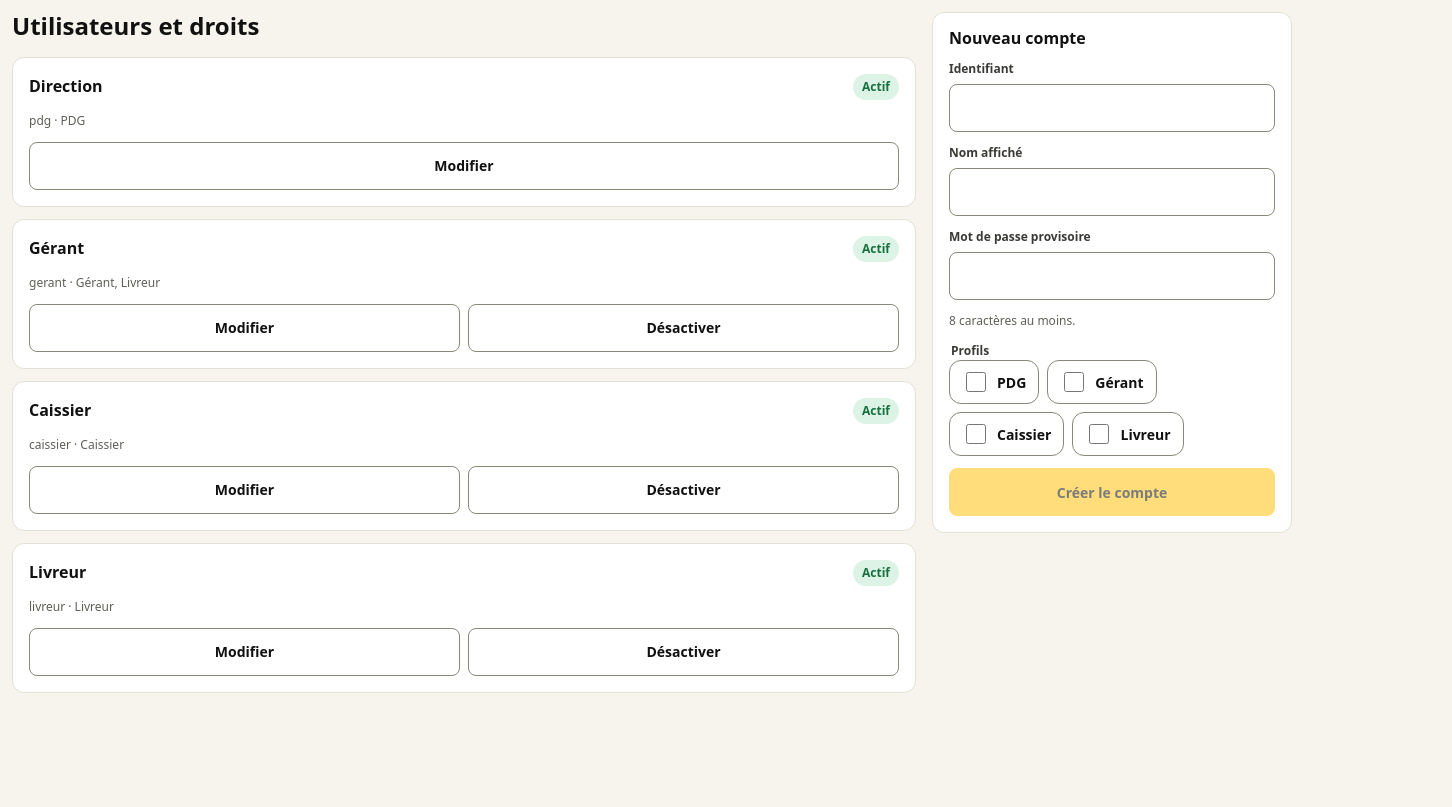
CoCoConfig › désactive un compte, change ses profils et montre un refus du serveur
Step 1. Click the 2nd button "Désactiver" → (684,490), box [468,466,899,514]
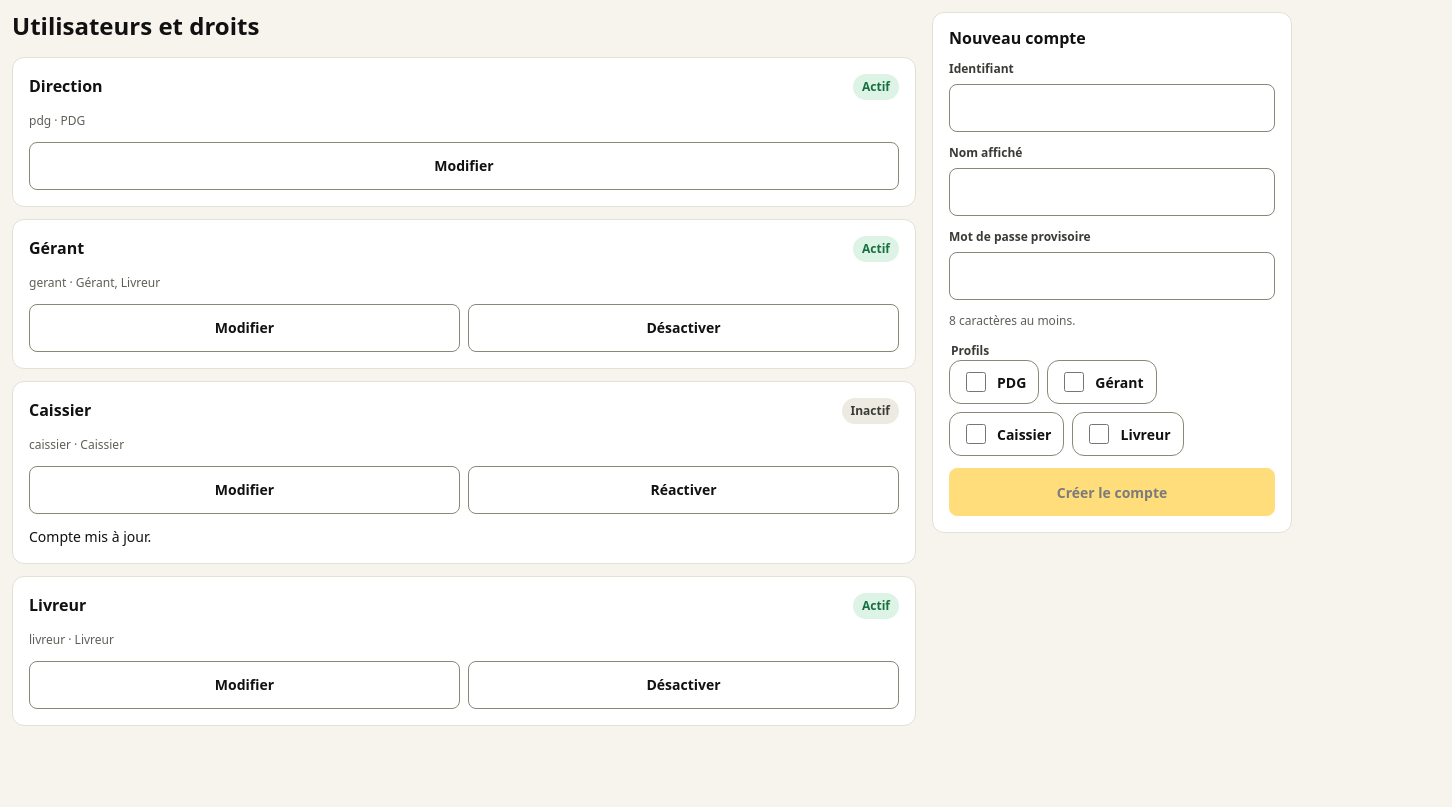
Expected: the text "Compte mis à jour." is shown, [29,527,151,546]
Expected: the text "Inactif" is shown, [842,398,899,424]
Step 2. Click the button "Modifier" below "caissier · Caissier" → (244,490), box [29,466,460,514]
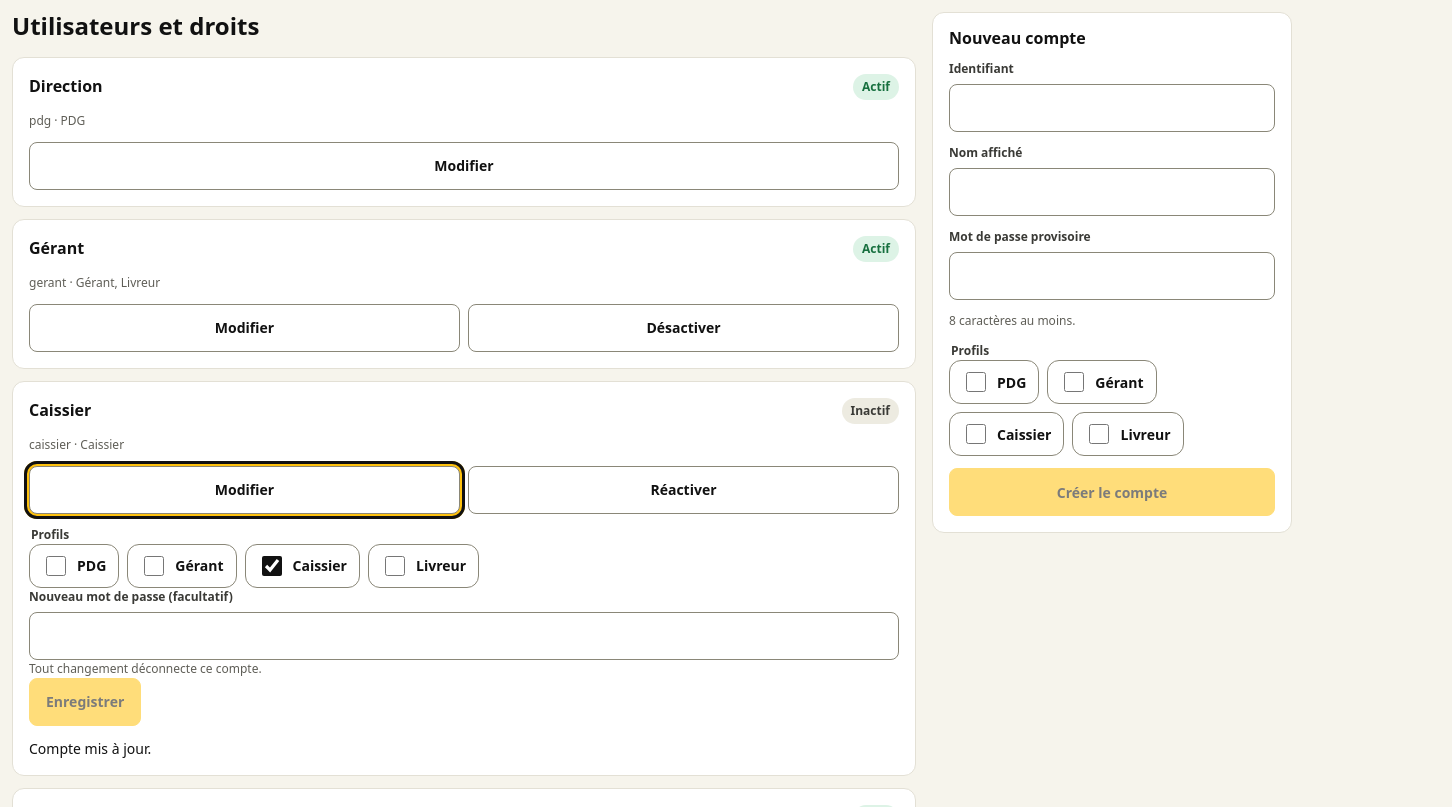
Step 3. Type "court" into the password field labelled "Nouveau mot de passe (facultatif)" → (464,636), box [29,612,899,660]
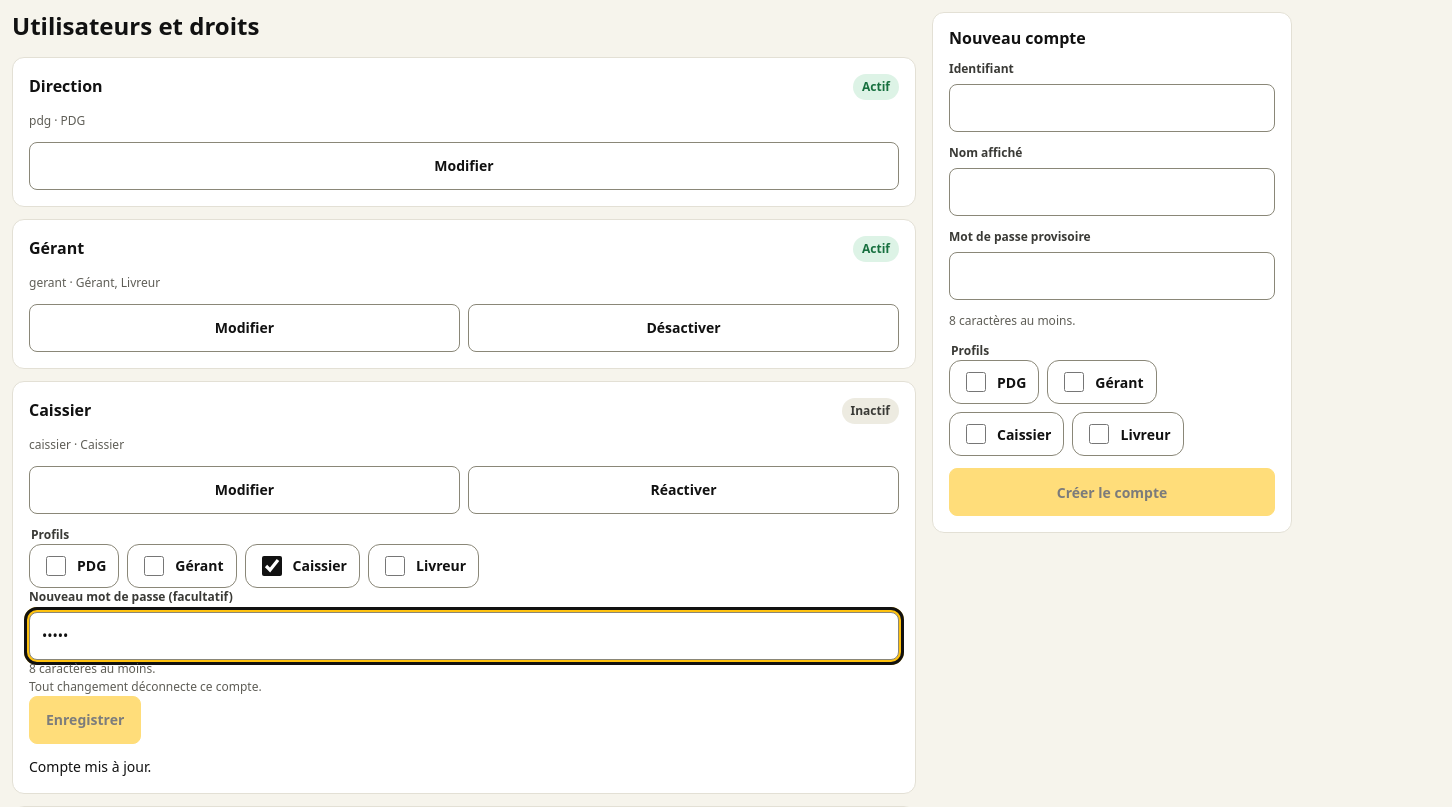
Expected: the button "Enregistrer" is disabled, [29,696,141,744]
Step 4. Type "-assez-long" into the password field labelled "Nouveau mot de passe (facultatif)" → (464,636), box [29,612,899,660]
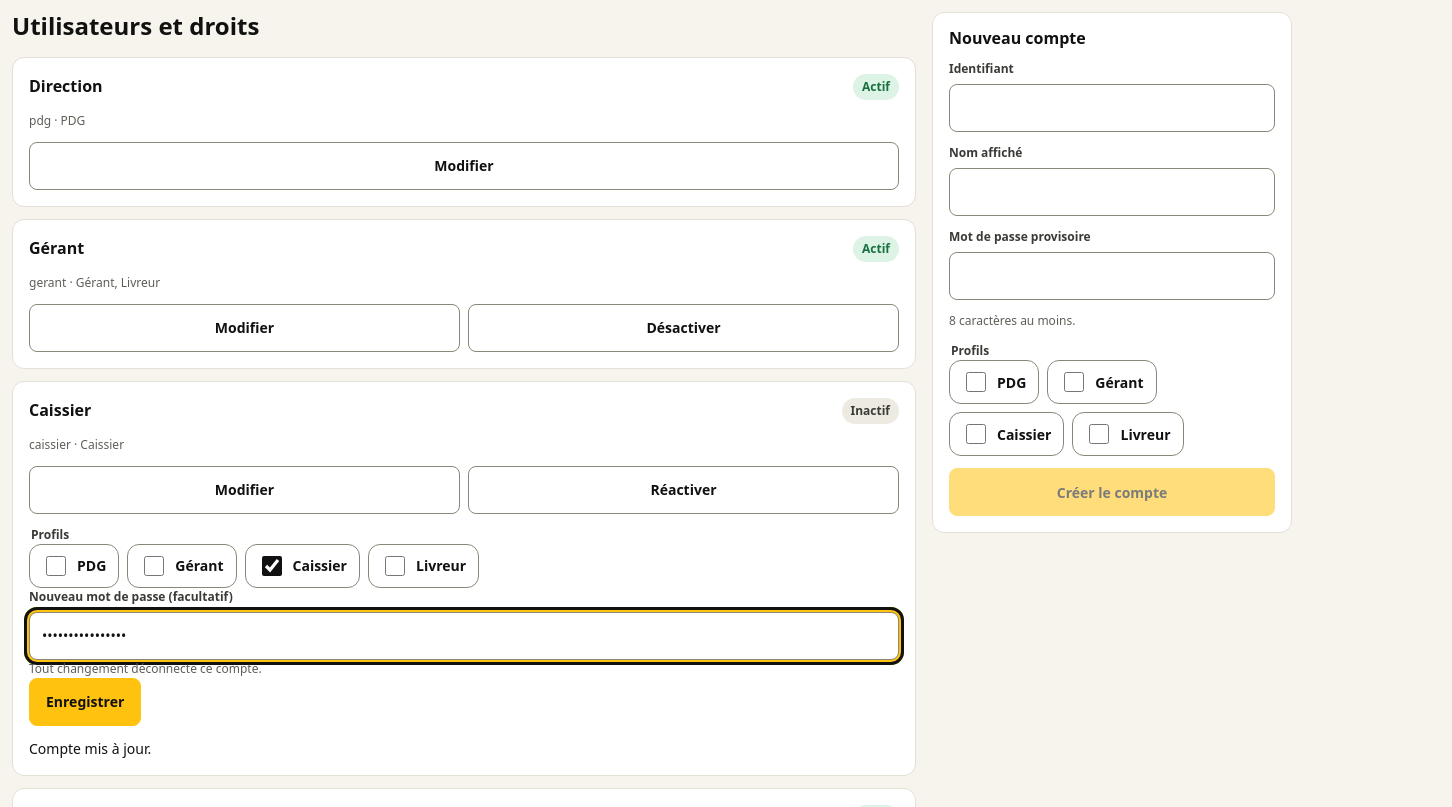
Step 5. Click the button "Enregistrer" → (85,702), box [29,678,141,726]
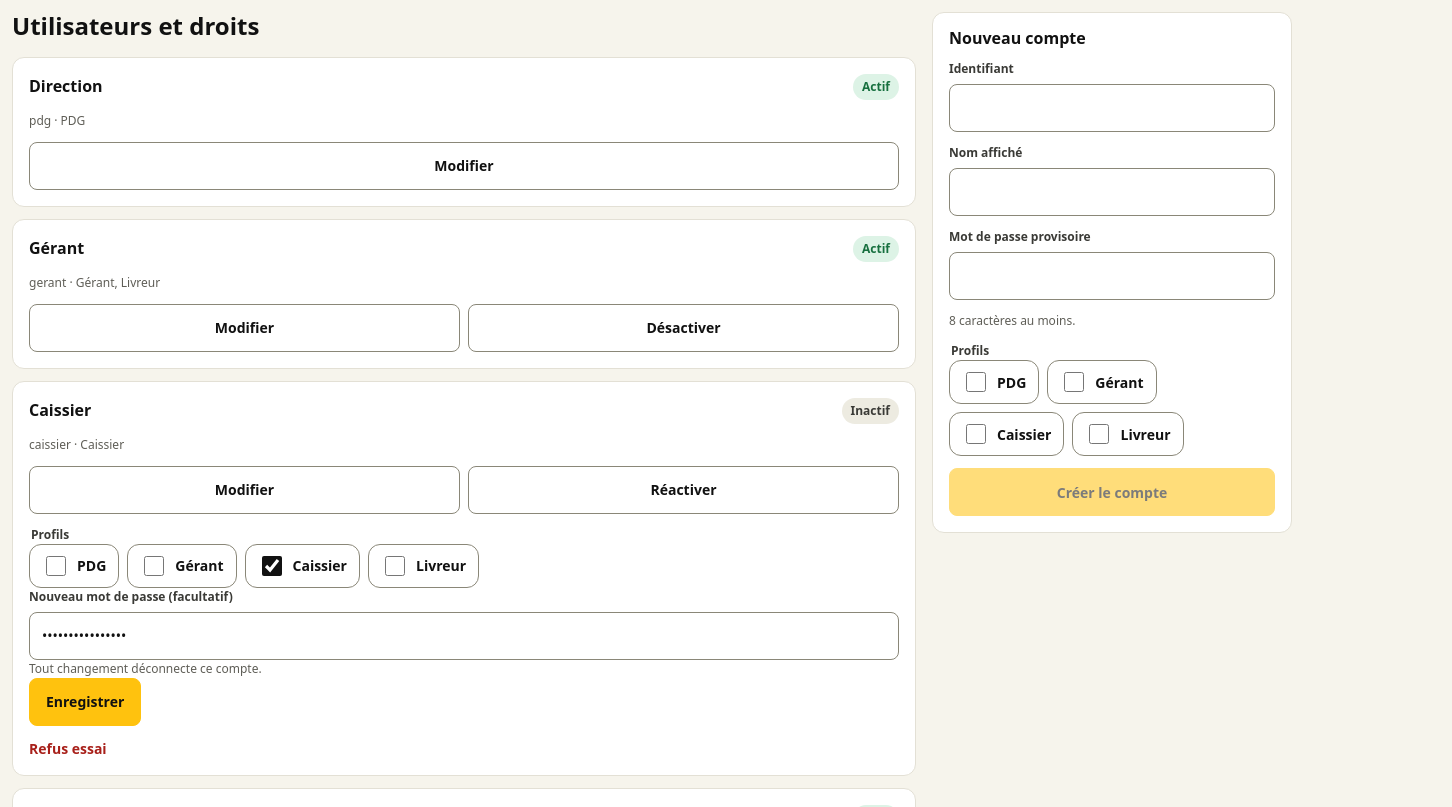
Expected: the message reads "Refus essai", [29,739,107,758]
Step 6. Click the button "Enregistrer" → (85,702), box [29,678,141,726]
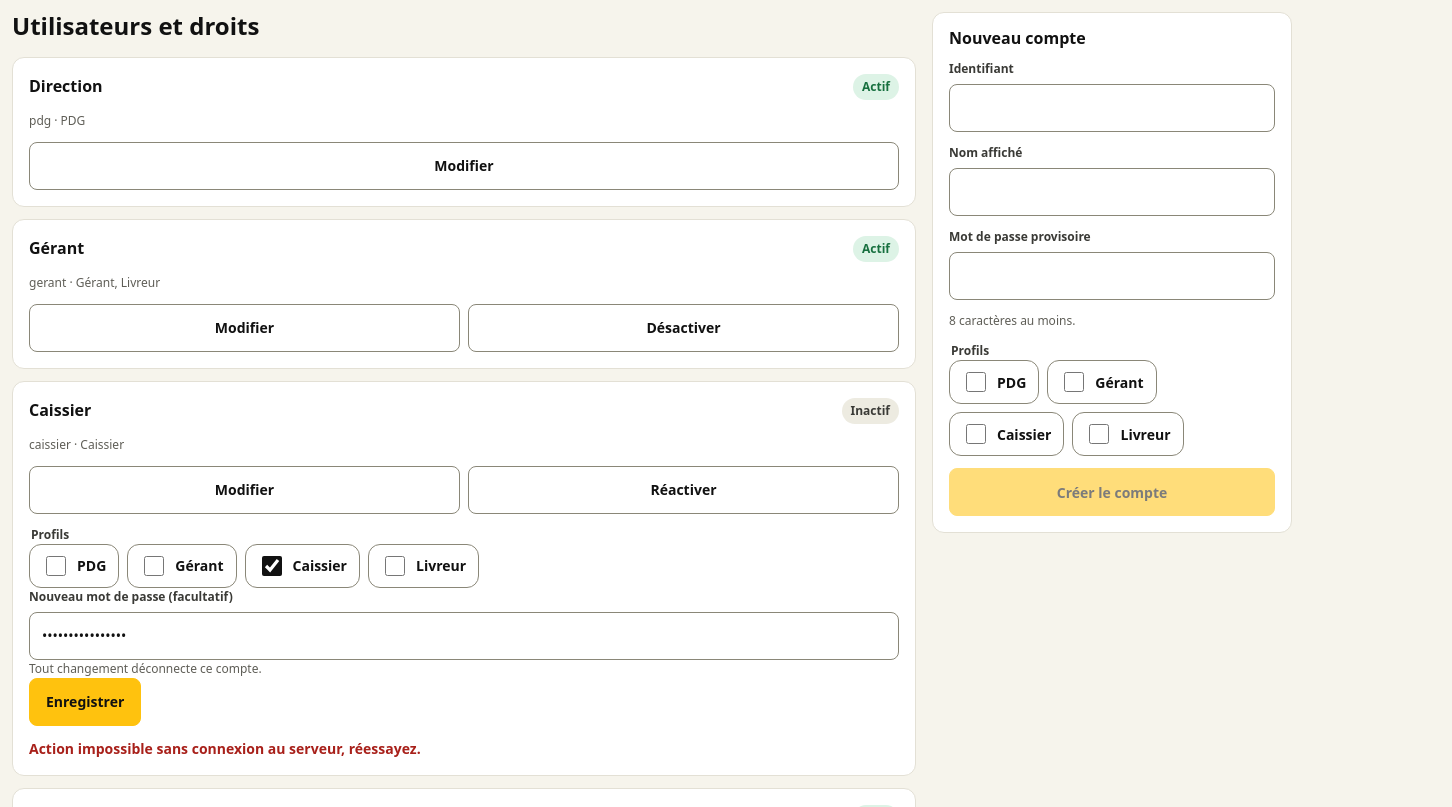
Expected: the message shows "réessayez", [29,739,421,758]
